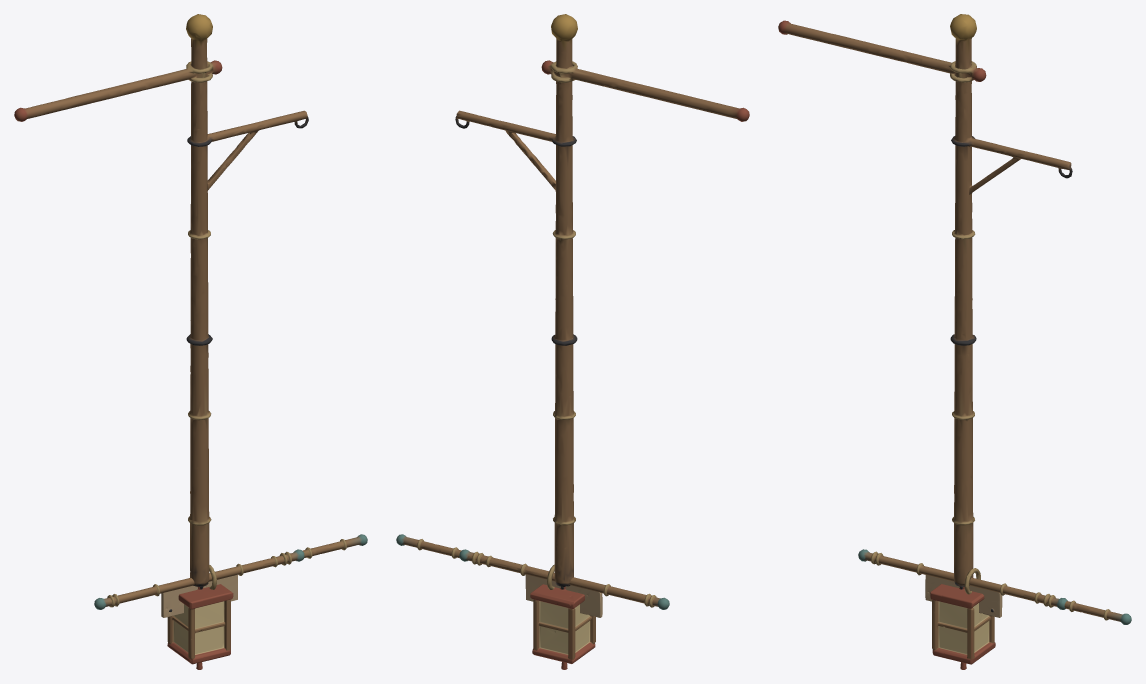
The model's file is cover.fbx.
3 views of the same model, side by side, from view 1: azimuth 30°, elevation 25°; view 2: azimuth 150°, elevation 25°; view 3: azimuth 330°, elevation 25° (orthographic).
Parts seen in each view (by area): view 1: CV_Pole, CV_Lantern, CV_Stick, CV_Tag, CV_TagArm; view 2: CV_Pole, CV_Lantern, CV_Stick, CV_Tag, CV_TagArm; view 3: CV_Pole, CV_Lantern, CV_Stick, CV_Tag, CV_TagArm.
Part boxes in pixels (x1=…): CV_Pole: x1=14, y1=14, x2=308, y2=586; CV_Lantern: x1=167, y1=584, x2=233, y2=669; CV_Stick: x1=94, y1=549, x2=304, y2=609; CV_Tag: x1=161, y1=575, x2=237, y2=617; CV_TagArm: x1=209, y1=534, x2=367, y2=589; CV_Pole: x1=455, y1=14, x2=749, y2=586; CV_Lantern: x1=530, y1=584, x2=595, y2=669; CV_Stick: x1=459, y1=549, x2=669, y2=609; CV_Tag: x1=525, y1=574, x2=602, y2=617; CV_TagArm: x1=396, y1=534, x2=554, y2=589; CV_Pole: x1=778, y1=14, x2=1072, y2=586; CV_Lantern: x1=930, y1=584, x2=995, y2=669; CV_Stick: x1=858, y1=549, x2=1067, y2=609; CV_Tag: x1=925, y1=575, x2=1002, y2=617; CV_TagArm: x1=964, y1=568, x2=1131, y2=624.
Size of what is drawn, in the model's own units: 0.6114 by 1.09 by 0.0763.
